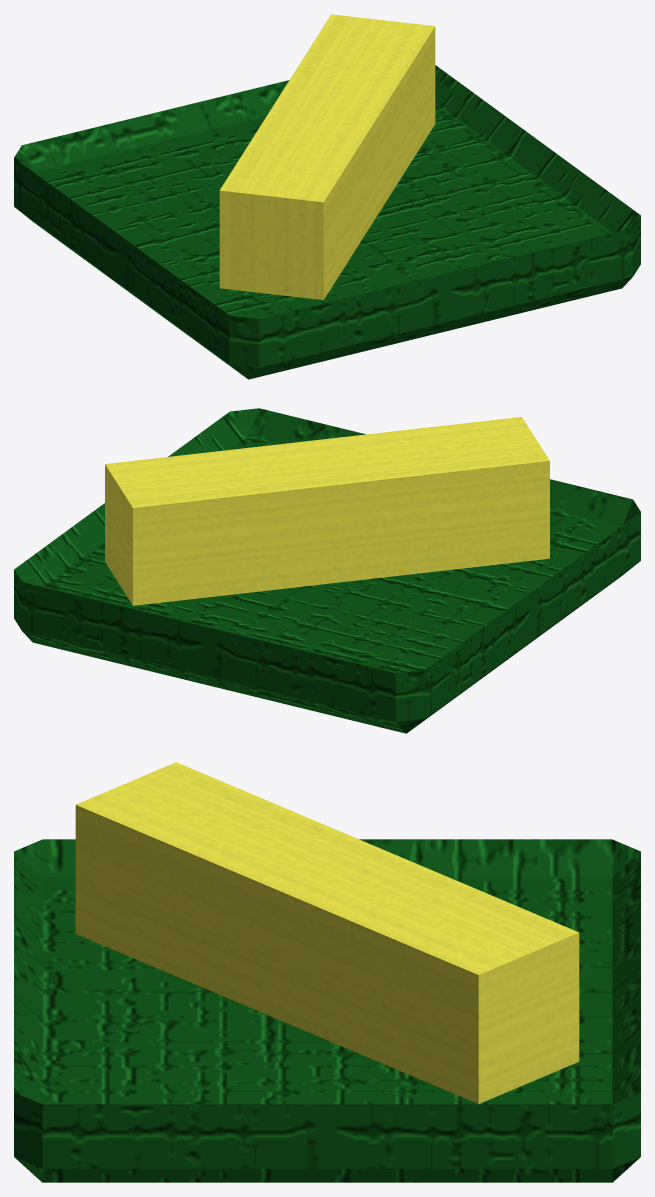
File: butter.fbx
3 renders of one model, top to bottom at view 1: azimuth 30°, elevation 25°; view 2: azimuth 150°, elevation 25°; view 3: azimuth 270°, elevation 25°, orthographic. The views are drawn at different scales.
Visible parts, largest first — view 1: Cube.001, Cube; view 2: Cube.001, Cube; view 3: Cube.001, Cube.
Part boxes in pixels (x1=…): Cube.001: x1=14, y1=65, x2=640, y2=379; Cube: x1=219, y1=14, x2=435, y2=299; Cube.001: x1=14, y1=408, x2=640, y2=733; Cube: x1=105, y1=417, x2=549, y2=605; Cube.001: x1=14, y1=839, x2=640, y2=1182; Cube: x1=75, y1=762, x2=579, y2=1104.
Bounding box in the file's own units: 220 × 75 × 220.
